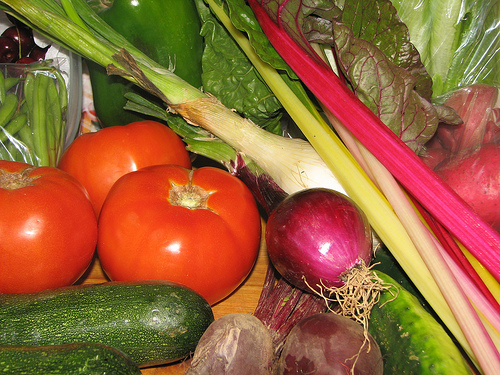cucumber: (0, 280, 213, 367), (347, 265, 478, 374)
